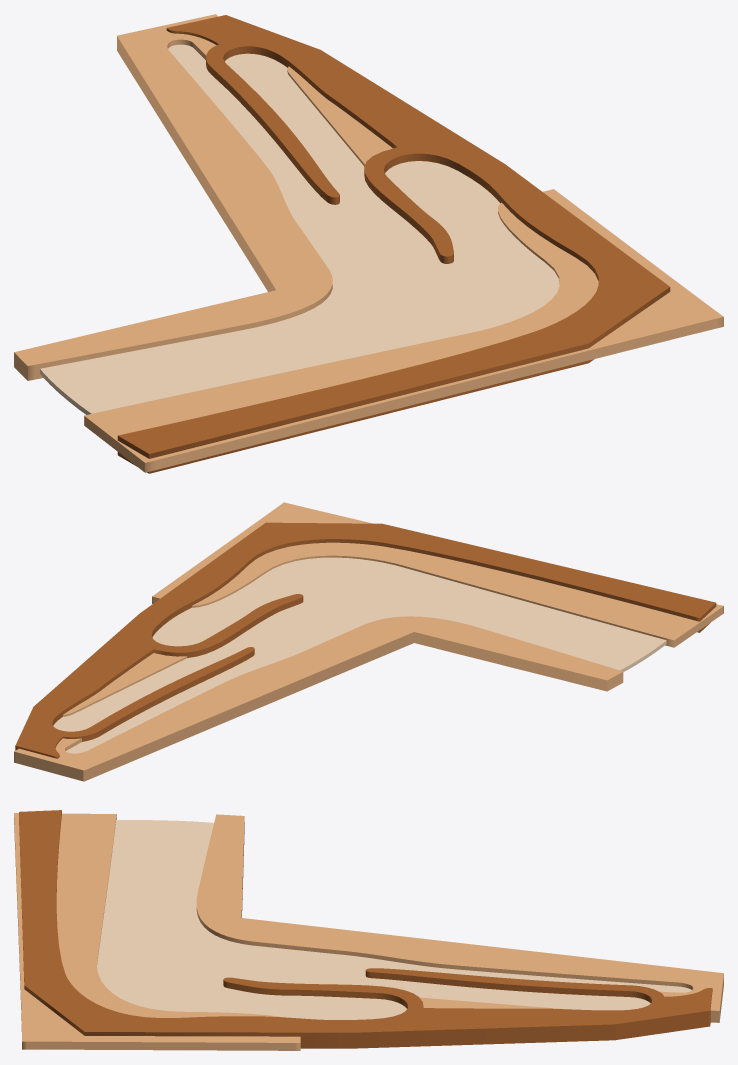
Rendered from emoji_u1faf8_1f3fb.glb.
3 views of the same model, one above another, from view 1: azimuth 30°, elevation 25°; view 2: azimuth 150°, elevation 25°; view 3: azimuth 270°, elevation 25° (orthographic). The views are drawn at different scales.
Parts seen in each view (by area): view 1: emoji_u1faf8_1f3fb; view 2: emoji_u1faf8_1f3fb; view 3: emoji_u1faf8_1f3fb.
Boxes of the visible parts, left/top/right/bottom form: emoji_u1faf8_1f3fb: left=14, top=14, right=723, bottom=473; emoji_u1faf8_1f3fb: left=14, top=502, right=723, bottom=781; emoji_u1faf8_1f3fb: left=14, top=810, right=723, bottom=1050.
Size of the model in its own units: 0.0248 by 0.0008 by 0.0324.
